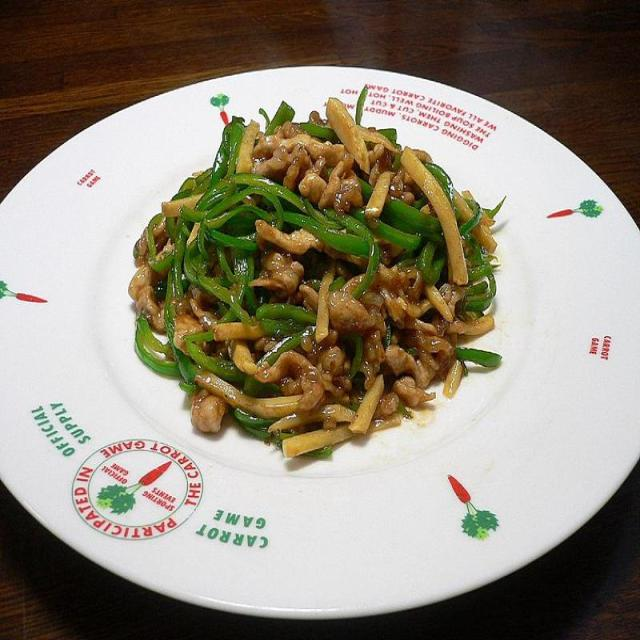牛肉菜式: (0, 57, 640, 640)
